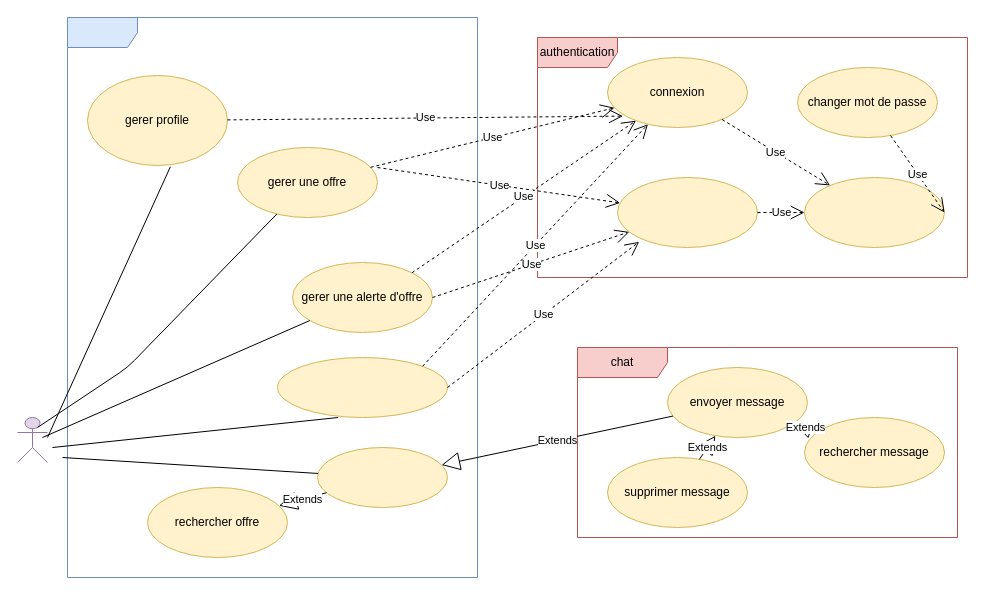
Image size: 985x595. Some labels were removed from this diagram. The shapes that lost their labels are listed below. From the top down, each one's centre as x and y in pixels, then its label:
the point at 687,212: verifier email
the point at 874,212: creer compte
the point at 362,387: initier parrainage
the point at 32,439: User
the point at 382,477: echanger offre
